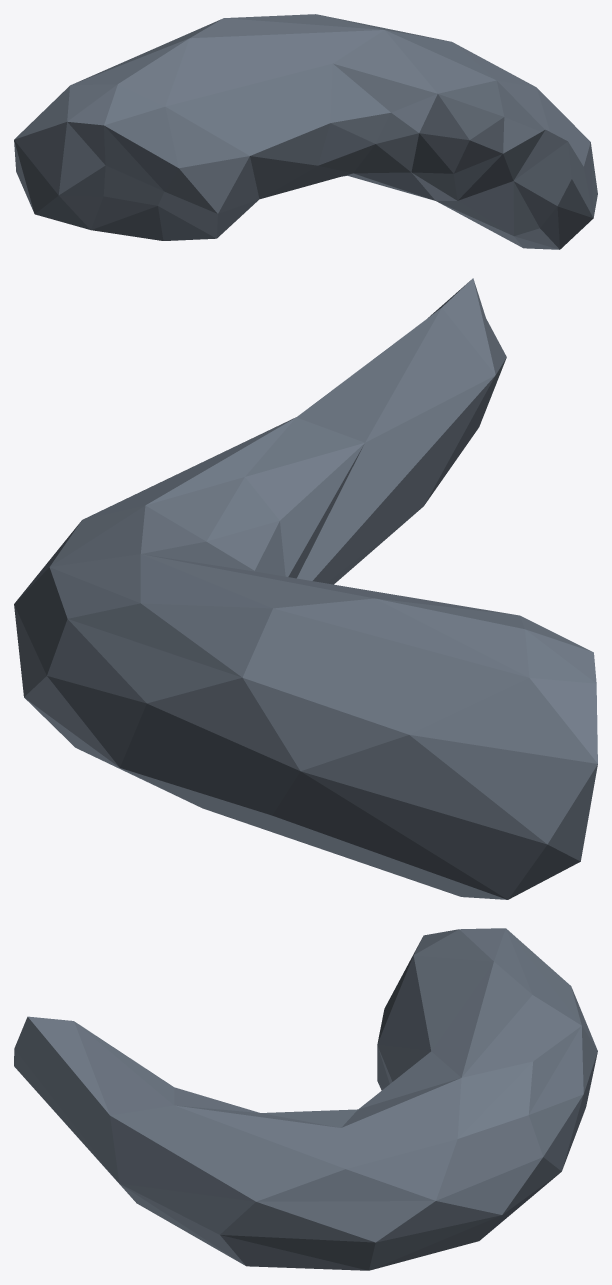
Rendered from white div horn piece 1.glb.
3 renders of one model, top to bottom at view 1: azimuth 30°, elevation 25°; view 2: azimuth 150°, elevation 25°; view 3: azimuth 270°, elevation 25°, orthographic. The views are drawn at different scales.
Parts seen in each view (by area): view 1: NurbsPath.001; view 2: NurbsPath.001; view 3: NurbsPath.001.
Boxes of the visible parts, bbox=[...] form: NurbsPath.001: bbox=[14, 14, 597, 249]; NurbsPath.001: bbox=[14, 278, 597, 899]; NurbsPath.001: bbox=[14, 928, 597, 1270].
Size of the model in its own units: 0.2485 by 0.1065 by 0.2611.
